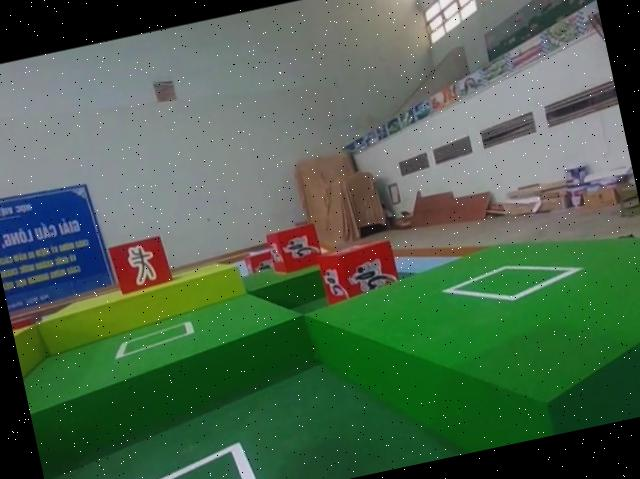R1: (313, 234, 406, 318), (261, 217, 327, 279)
R2 Fake: (103, 229, 178, 302)
